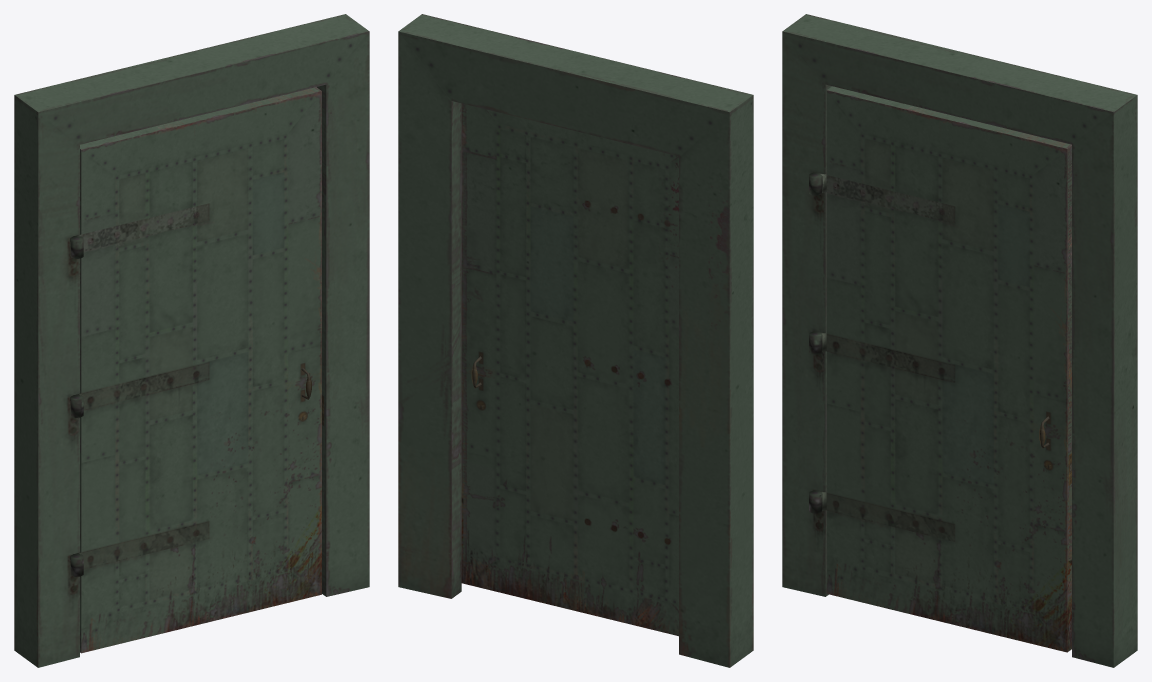
The model's file is door_heavy_metal.fbx.
3 views of the same model, side by side, from view 1: azimuth 30°, elevation 25°; view 2: azimuth 150°, elevation 25°; view 3: azimuth 330°, elevation 25° (orthographic).
Parts seen in each view (by area): view 1: door_heavy_metal, door_frame_metal; view 2: door_heavy_metal, door_frame_metal; view 3: door_heavy_metal, door_frame_metal.
Boxes of the visible parts, left/top/right/bottom form: door_heavy_metal: left=75, top=87, right=321, bottom=653; door_frame_metal: left=14, top=14, right=369, bottom=667; door_heavy_metal: left=461, top=103, right=678, bottom=636; door_frame_metal: left=398, top=14, right=753, bottom=667; door_heavy_metal: left=819, top=86, right=1071, bottom=652; door_frame_metal: left=782, top=14, right=1137, bottom=667.
Size of the model in its own units: 138 by 221 by 21.85.
